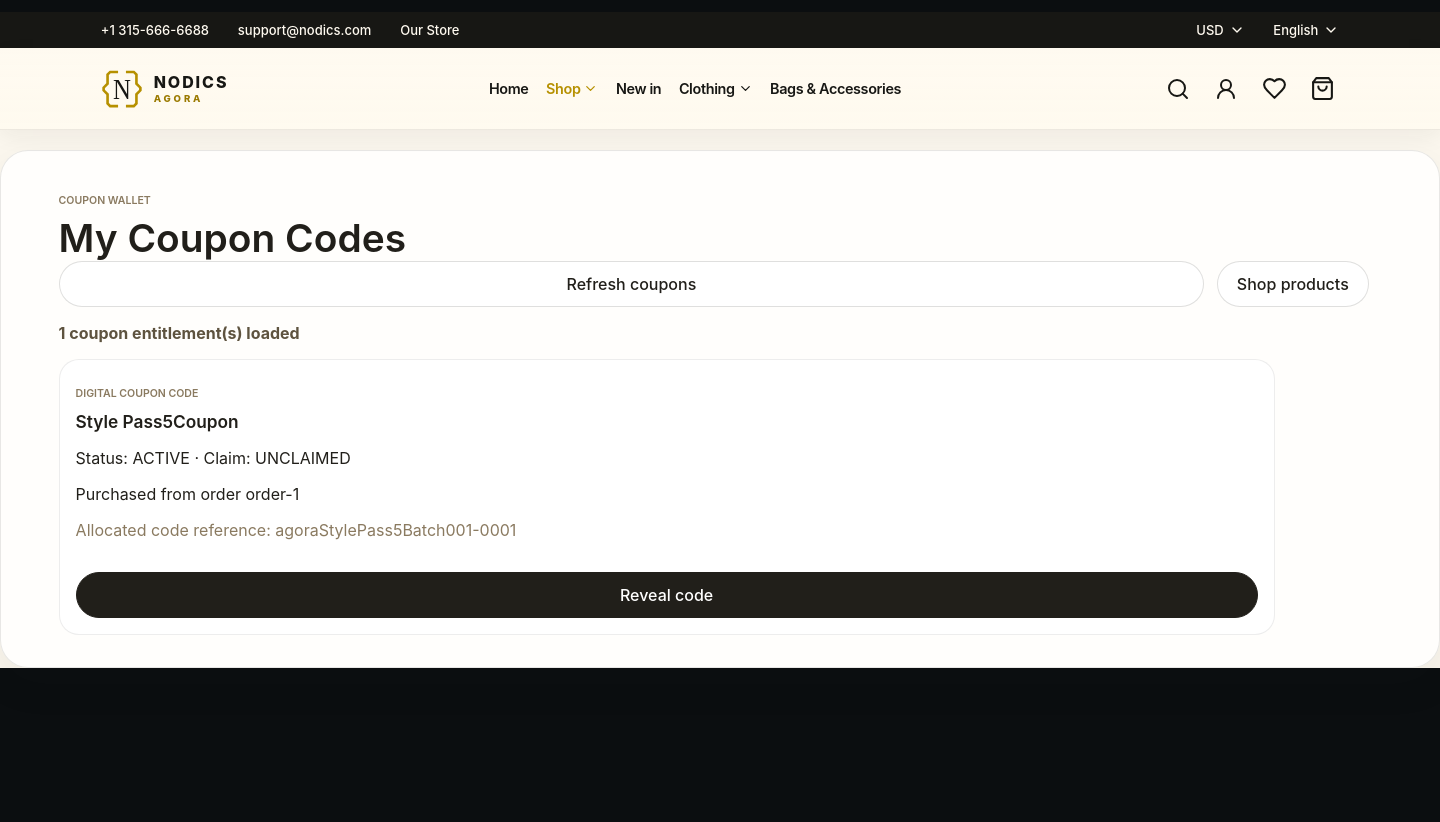
Test case: Agora storefront journey › lists purchased coupon entitlements and reveals a customer-owned coupon code
Check: the heading "My Coupon Codes" is shown, box [59,214,406,261]
Check: the text "Purchased from order order-1" is shown, box [76,484,299,504]
Step 1. Click the button "Reveal code" → (667, 595), box [76,572,1258,618]
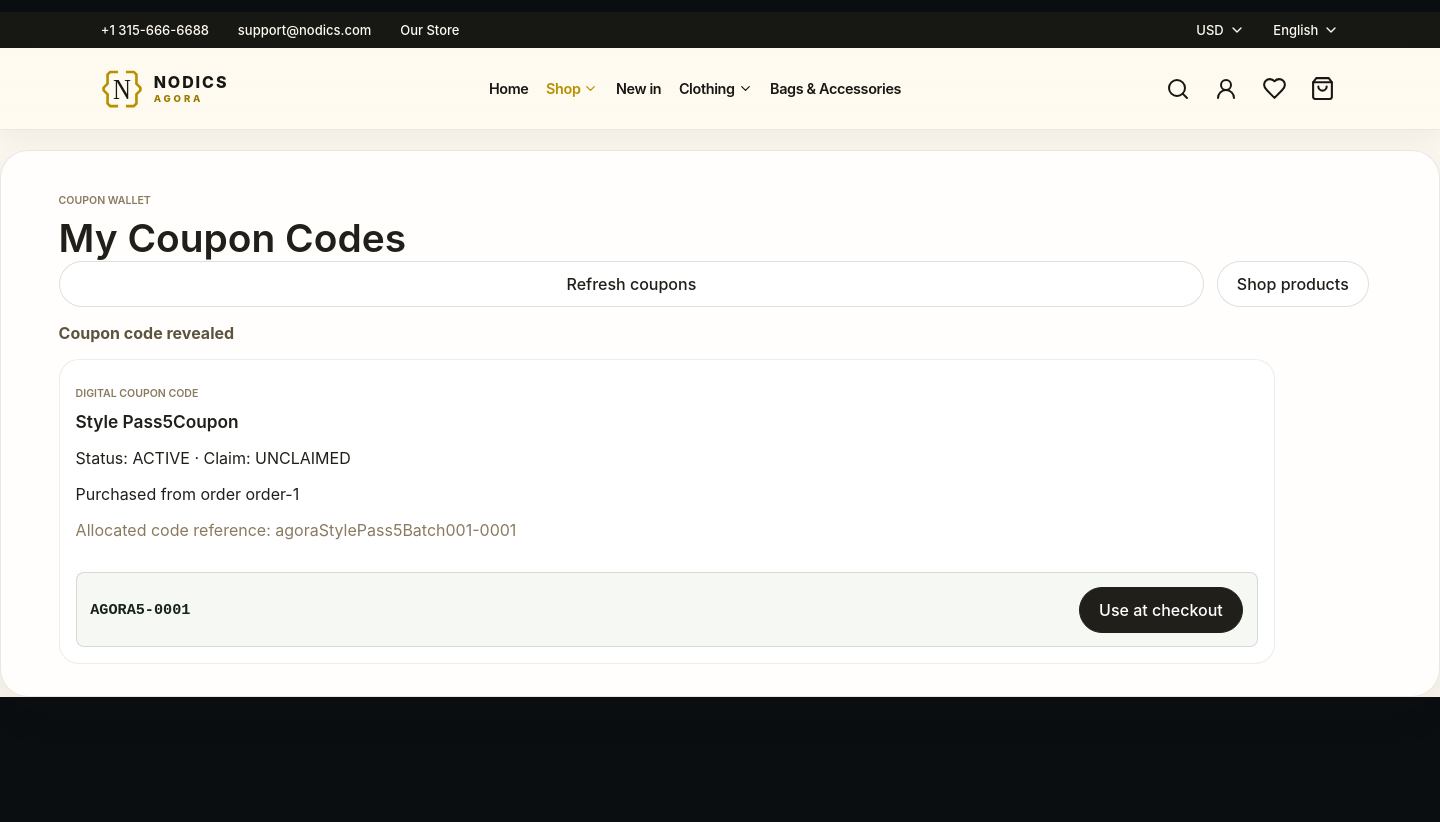
Check: the text "AGORA5-0001" is shown, box [90,601,190,619]
Step 2. Click the button "Use at checkout" → (1161, 610), box [1079,587,1243,633]
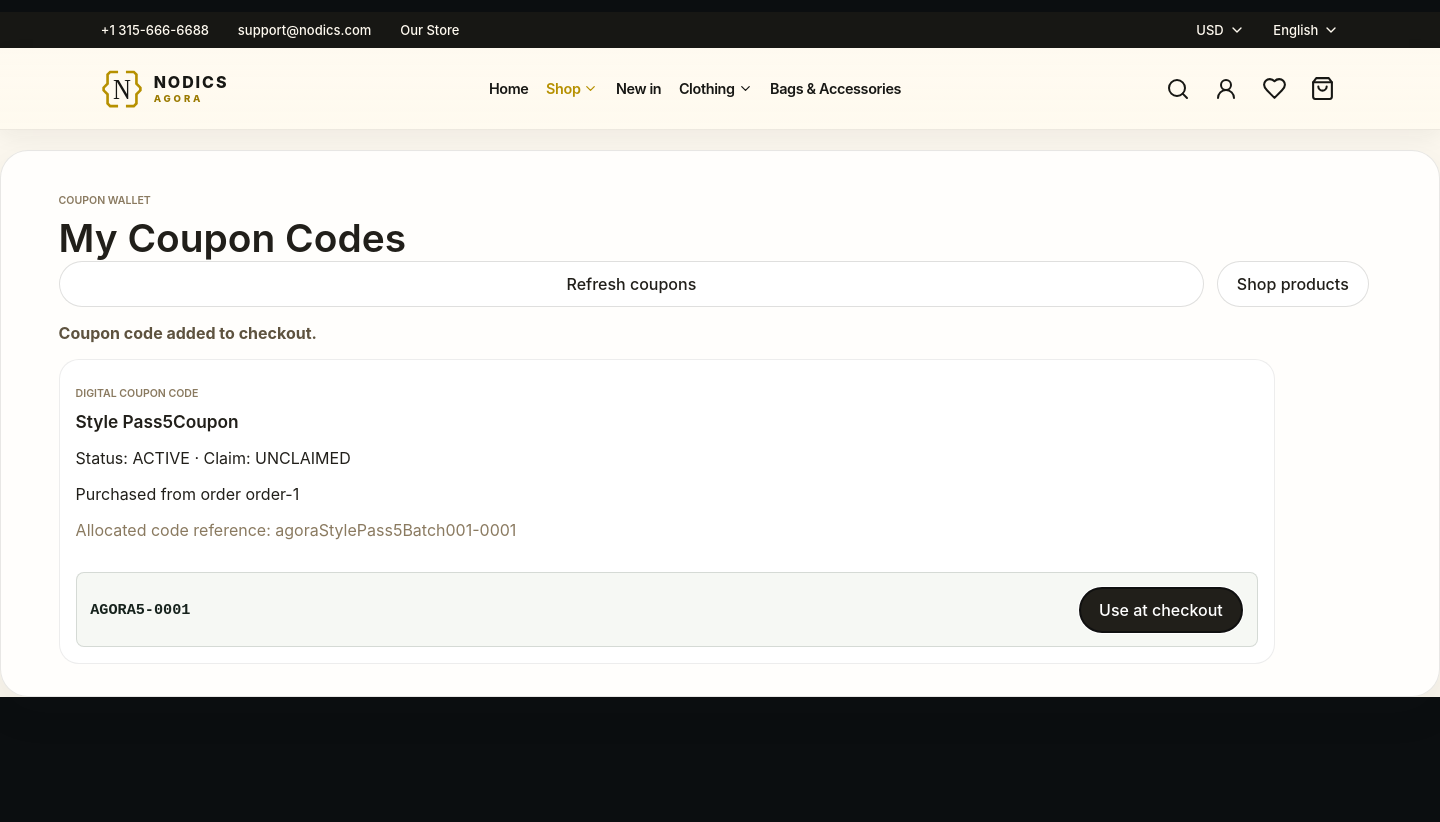
Check: the text "Coupon code added to checkout." is shown, box [59,324,317,344]
